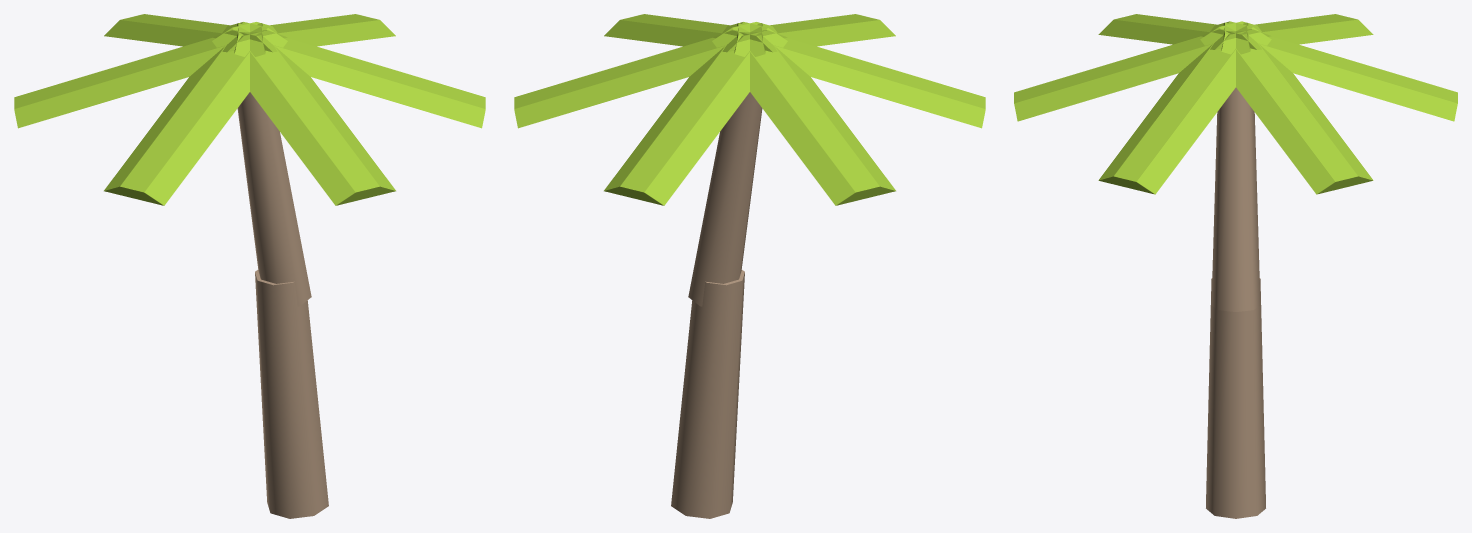
Rendered from tree_palm.glb.
3 renders of one model, left to right at view 1: azimuth 30°, elevation 25°; view 2: azimuth 150°, elevation 25°; view 3: azimuth 270°, elevation 25°, orthographic. The views are drawn at different scales.
Visible parts, largest first — view 1: palm_fronds, palm_trunk; view 2: palm_fronds, palm_trunk; view 3: palm_fronds, palm_trunk.
Part boxes in pixels (left/top/right/bottom): palm_fronds: left=14, top=14, right=485, bottom=205; palm_trunk: left=237, top=92, right=328, bottom=518; palm_fronds: left=514, top=14, right=985, bottom=205; palm_trunk: left=671, top=92, right=762, bottom=518; palm_fronds: left=1014, top=14, right=1457, bottom=194; palm_trunk: left=1206, top=87, right=1265, bottom=518.
Size of the model in its own units: 4.36 by 5.39 by 4.71.
